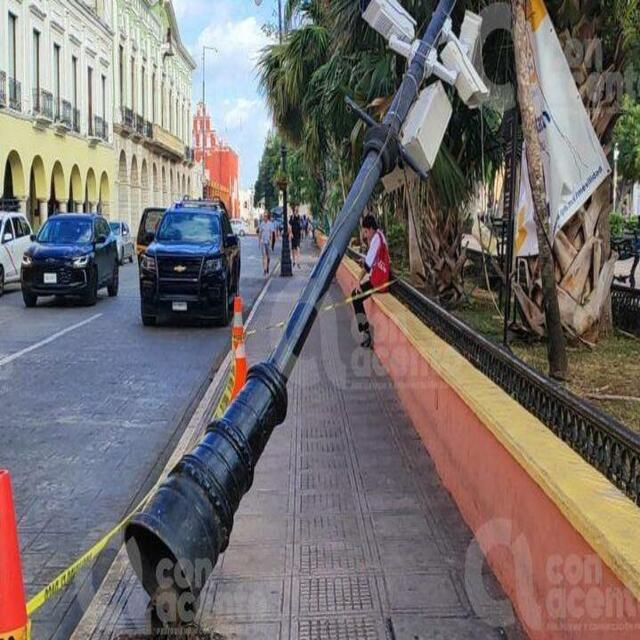Inclined Pole: (113, 0, 491, 626)
